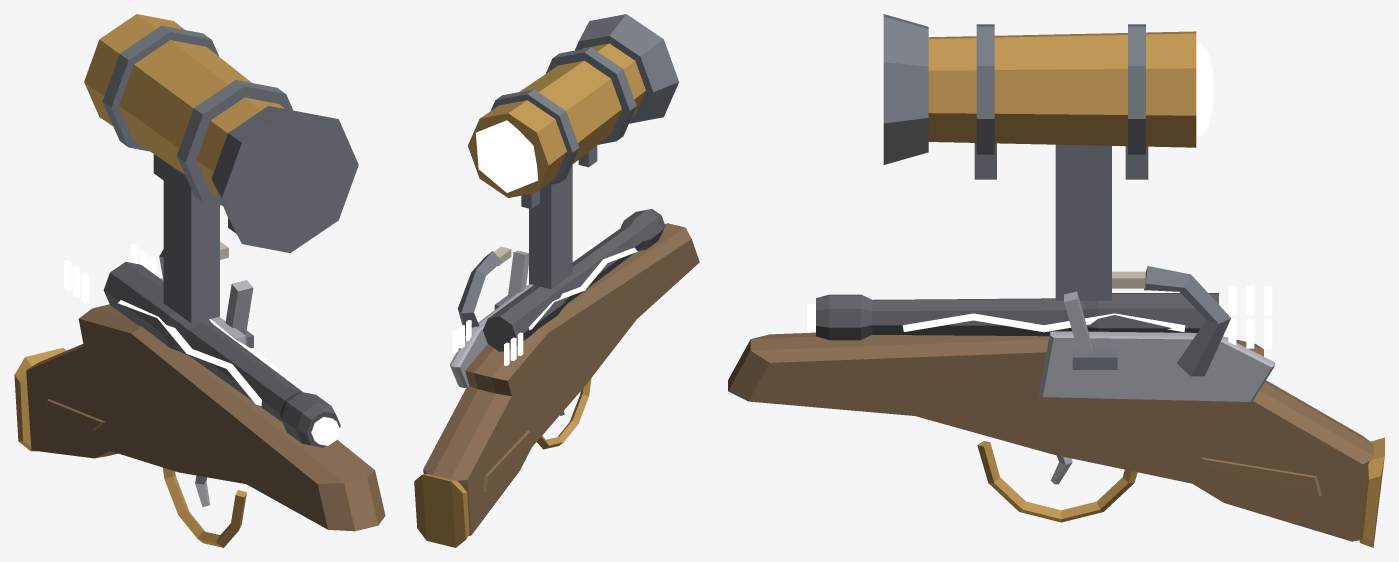
The model's file is gun-overwatch.glb.
The picture shows the model from 3 angles, left to right: view 1: azimuth 30°, elevation 25°; view 2: azimuth 150°, elevation 25°; view 3: azimuth 270°, elevation 25°; orthographic projection. The views are drawn at different scales.
Visible parts, largest first — view 1: gun-overwatch, pulse_vein, pulse_breath; view 2: gun-overwatch, pulse_breath, pulse_vein; view 3: gun-overwatch, pulse_vein, pulse_breath.
Part boxes in pixels (x1,y1,x2,y2): gun-overwatch: (14,14,385,547); pulse_vein: (118,300,303,406); pulse_breath: (64,243,156,303); gun-overwatch: (414,14,699,547); pulse_breath: (452,320,523,365); pulse_vein: (528,240,637,330); gun-overwatch: (728,14,1384,547); pulse_vein: (902,297,1185,332); pulse_breath: (1228,286,1272,348).
Bounding box in the file's own units: 0.143 × 0.5119 × 0.5838.
